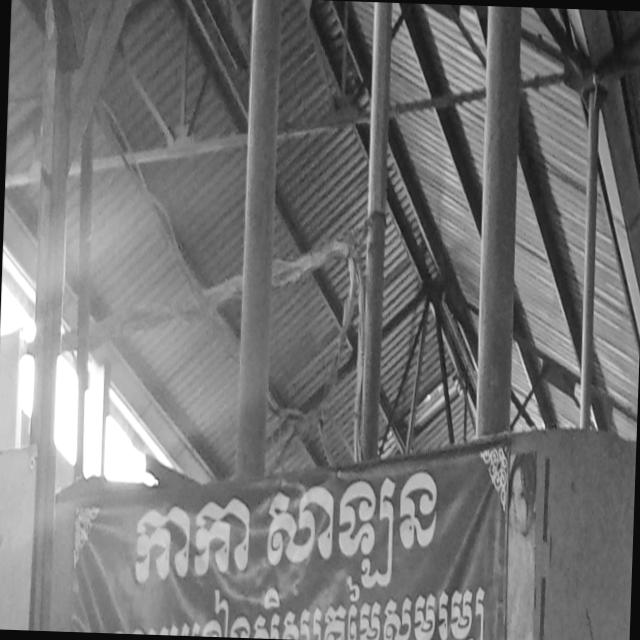1: (125, 460, 447, 604)
Yolov11kh: (379, 564, 488, 640)
